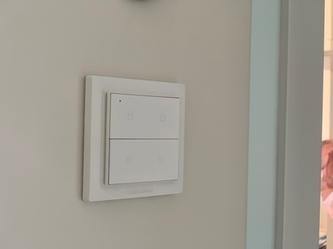switch: (98, 134, 185, 186), (101, 87, 183, 142)
